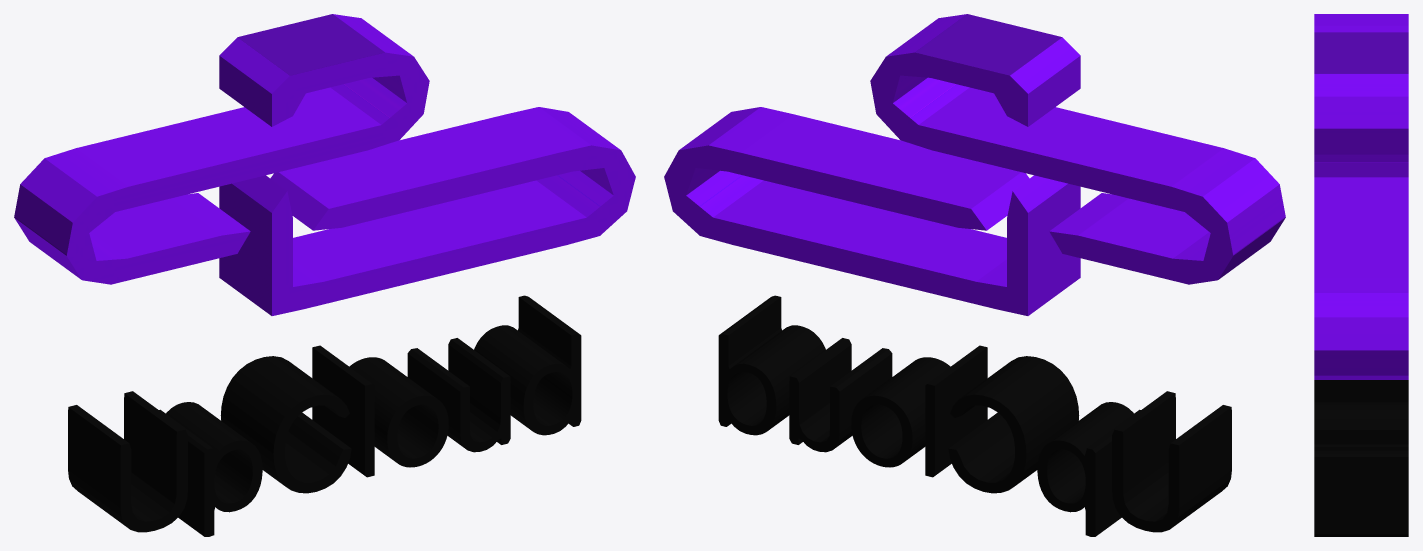
Rendered from up-cloud-ltd.glb.
3 views of the same model, side by side, from view 1: azimuth 30°, elevation 25°; view 2: azimuth 150°, elevation 25°; view 3: azimuth 270°, elevation 25° (orthographic). The views are drawn at different scales.
Parts seen in each view (by area): view 1: Curve; view 2: Curve; view 3: Curve.
Part boxes in pixels (x1,y1,x2,y2): Curve: (14, 14, 635, 536); Curve: (664, 14, 1285, 536); Curve: (1314, 14, 1408, 536).
Size of the model in its own units: 0.0312 by 0.0231 by 0.005.
1 material, 1 textured.
